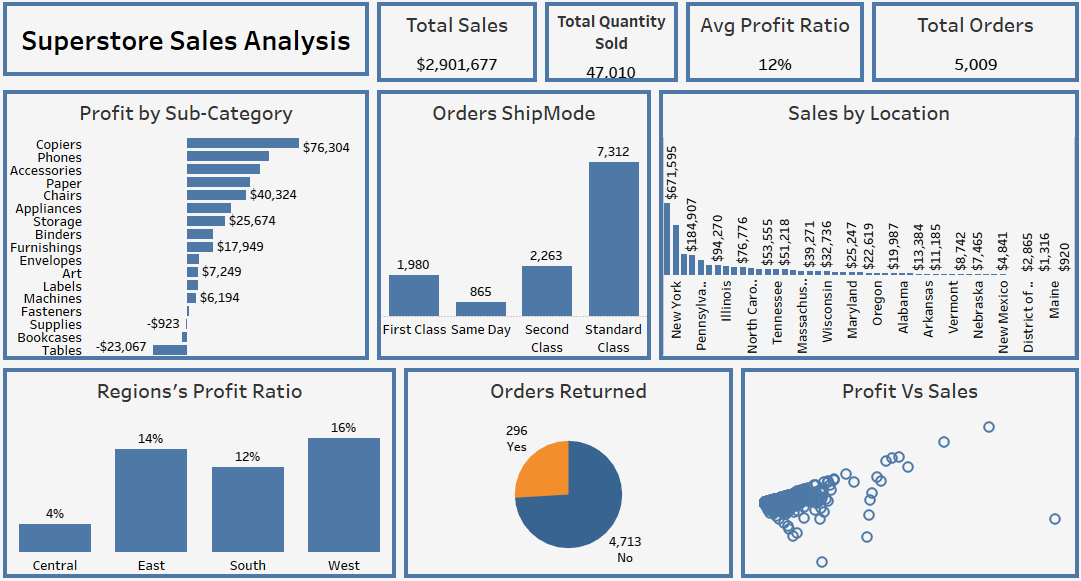

This screenshot's page, from the dashboard's own definition file:
{"tool":"tableau","page":{"name":"Dashboard 1","canvas":[1100,600],"ordinal":0},"visuals":[{"type":"text","box":[8,8,374,82]},{"type":"worksheet","title":"Sheet 8","mark":"Automatic","box":[382,8,168,87.9]},{"type":"worksheet","title":"Sheet 9","mark":"Automatic","box":[550,8,141,87.9]},{"type":"worksheet","title":"Sheet 10","mark":"Automatic","box":[691,8,186,87.9]},{"type":"worksheet","title":"Sheet 11","mark":"Automatic","box":[877,8,215,87.9]},{"type":"worksheet","title":"Sheet 2","mark":"Automatic","rows":["Sub-Category"],"cols":["Profit"],"box":[8,95.9,374,277.8]},{"type":"worksheet","title":"Sheet 7","mark":"Automatic","rows":["Order ID"],"cols":["Ship Mode"],"box":[382,95.9,282,277.9]},{"type":"worksheet","title":"Sheet 3","mark":"Automatic","rows":["Sales"],"cols":["Country/Region","State"],"box":[664,95.9,428,277.9]},{"type":"worksheet","title":"Sheet 5","mark":"Automatic","rows":["Calculation_5571209093911105"],"cols":["Region"],"box":[8,373.7,401,218.3]},{"type":"worksheet","title":"Sheet 1","mark":"Pie","box":[409,373.7,336.9,218.3]},{"type":"worksheet","title":"Sheet 6","mark":"Automatic","rows":["Profit"],"cols":["Sales"],"box":[745.9,373.7,346.1,218.3]}]}

Visuals, with their boxes in screenshot pixels (x1, y1, x2, y2), scaled from the page's 1100x600 canvas onto the 1081x581 screenshot:
text: bbox=(8, 8, 375, 87)
"Sheet 8" worksheet: bbox=(375, 8, 540, 93)
"Sheet 9" worksheet: bbox=(540, 8, 679, 93)
"Sheet 10" worksheet: bbox=(679, 8, 862, 93)
"Sheet 11" worksheet: bbox=(862, 8, 1073, 93)
"Sheet 2" worksheet: bbox=(8, 93, 375, 362)
"Sheet 7" worksheet: bbox=(375, 93, 653, 362)
"Sheet 3" worksheet: bbox=(653, 93, 1073, 362)
"Sheet 5" worksheet: bbox=(8, 362, 402, 573)
"Sheet 1" worksheet (Pie marks): bbox=(402, 362, 733, 573)
"Sheet 6" worksheet: bbox=(733, 362, 1073, 573)
